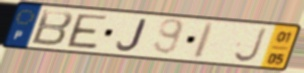9: (152, 17, 186, 59)
B: (28, 8, 76, 48)
E: (66, 12, 110, 51)
I: (191, 22, 218, 61)
J: (232, 26, 270, 64), (115, 18, 148, 52)
